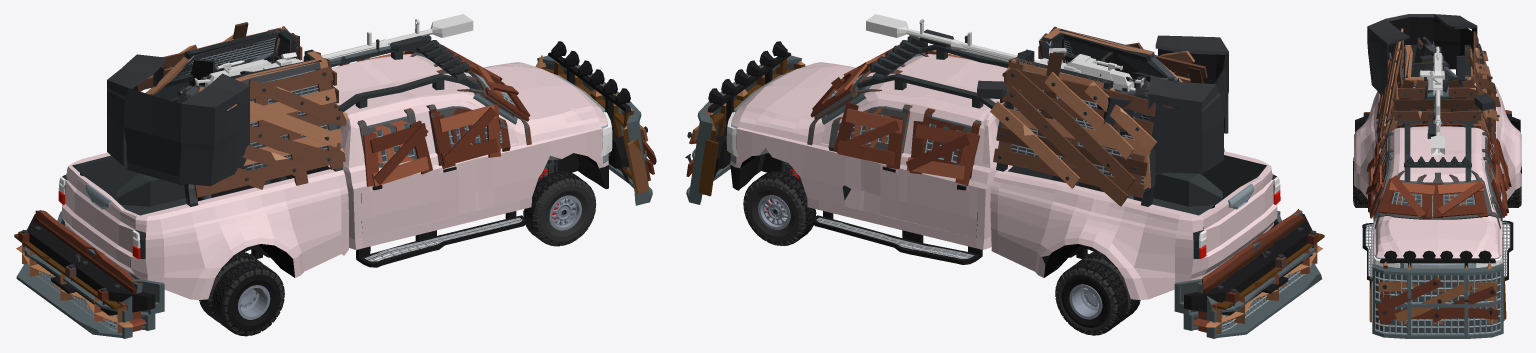
The model's file is Car_01.fbx.
The picture shows the model from 3 angles, left to right: view 1: azimuth 30°, elevation 25°; view 2: azimuth 150°, elevation 25°; view 3: azimuth 270°, elevation 25°; orthographic projection. The views are drawn at different scales.
Visible parts, largest first — view 1: Cubin, Gan, Gan_Kit_Boards, Engane, Front_Doors_Right, Rear_Doors_Right, Rear_Bumper_Boards, Rear_Doore, Kapot.001, Front_Side_Cubin.001, Front_Boards_window_Right, Rear_Boards_Window_left.001 (+27 smaller); view 2: Cubin, Gan_Kit_Boards, Gan, Engane, Front_Doors_Left, Rear_Doors_Left, Rear_Bumper_Boards, Rear_Doore, Kapot.001, Front_Side_Cubin.001, Gan_kit_Solid_Metal, Rear_Boards_Window_left (+25 smaller); view 3: Gan_Kit_Boards, Gan, Front_Bumper_Grid, Front_Bumper_Boards, Engane, Kapot.001, Front_Boards_window, Cubin, Front_Bumper.001, Front_Window.002, Light_bur, Front_Side_Cubin.001 (+25 smaller).
Part boxes in pixels (<box>): Cubin: <box>62,152,348,299</box>; Gan: <box>107,35,299,199</box>; Gan_Kit_Boards: <box>138,22,347,197</box>; Engane: <box>331,54,538,249</box>; Front_Doors_Right: <box>418,99,520,221</box>; Rear_Doors_Right: <box>354,106,431,237</box>; Rear_Bumper_Boards: <box>14,210,146,333</box>; Rear_Doore: <box>62,165,139,267</box>; Kapot.001: <box>464,63,606,128</box>; Front_Side_Cubin.001: <box>505,62,608,206</box>; Front_Boards_window_Right: <box>426,104,510,168</box>; Rear_Boards_Window_left.001: <box>357,108,432,186</box>; Cubin: <box>990,151,1277,299</box>; Gan_Kit_Boards: <box>990,26,1207,206</box>; Gan: <box>977,35,1228,199</box>; Engane: <box>800,54,1007,249</box>; Front_Doors_Left: <box>818,99,920,221</box>; Rear_Doors_Left: <box>907,105,984,237</box>; Rear_Bumper_Boards: <box>1192,209,1324,333</box>; Rear_Doore: <box>1199,165,1277,267</box>; Kapot.001: <box>732,63,874,128</box>; Front_Side_Cubin.001: <box>730,62,833,206</box>; Gan_kit_Solid_Metal: <box>996,29,1224,206</box>; Rear_Boards_Window_left: <box>906,108,981,185</box>; Gan_Kit_Boards: <box>1376,28,1500,148</box>; Gan: <box>1367,14,1495,123</box>; Front_Bumper_Grid: <box>1372,264,1503,338</box>; Front_Bumper_Boards: <box>1369,261,1506,324</box>; Engane: <box>1373,126,1502,258</box>; Kapot.001: <box>1380,220,1495,258</box>; Front_Boards_window: <box>1375,173,1497,226</box>; Cubin: <box>1354,81,1521,200</box>; Front_Bumper.001: <box>1372,263,1503,335</box>; Front_Window.002: <box>1375,170,1500,229</box>; Light_bur: <box>1380,250,1495,268</box>; Front_Side_Cubin.001: <box>1373,221,1502,268</box>.
Bounding box in the file's own units: 735 × 297 × 259.
